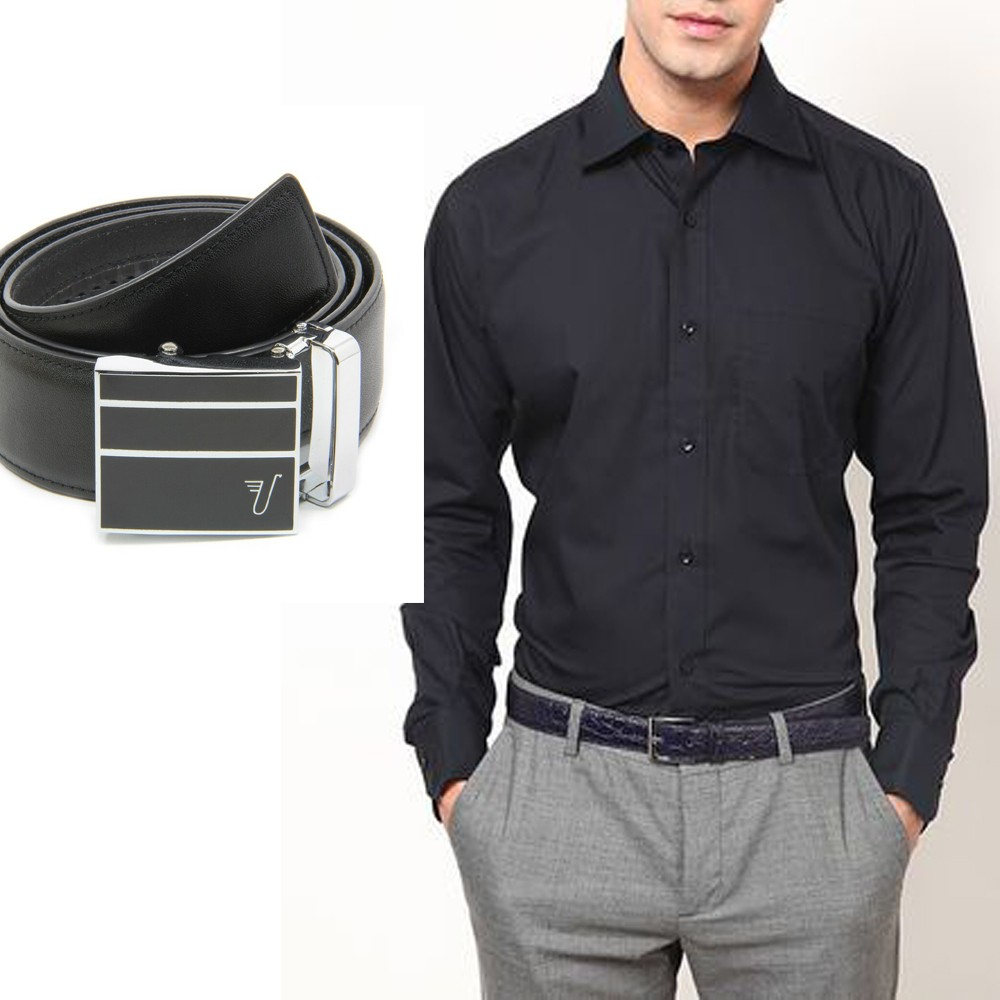F_belt: (485, 666, 880, 773)
F_shirt: (395, 41, 970, 808)
